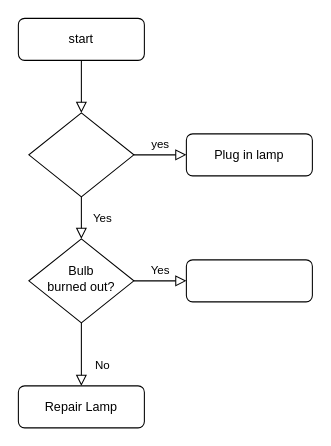
This 331x446 diagram has some shape labels left out. The box of each missing label's shape, as (x1, y1, x2, y2) in pixels:
priorities == 0: (28, 112, 134, 197)
Replace Bulb: (185, 259, 312, 302)
